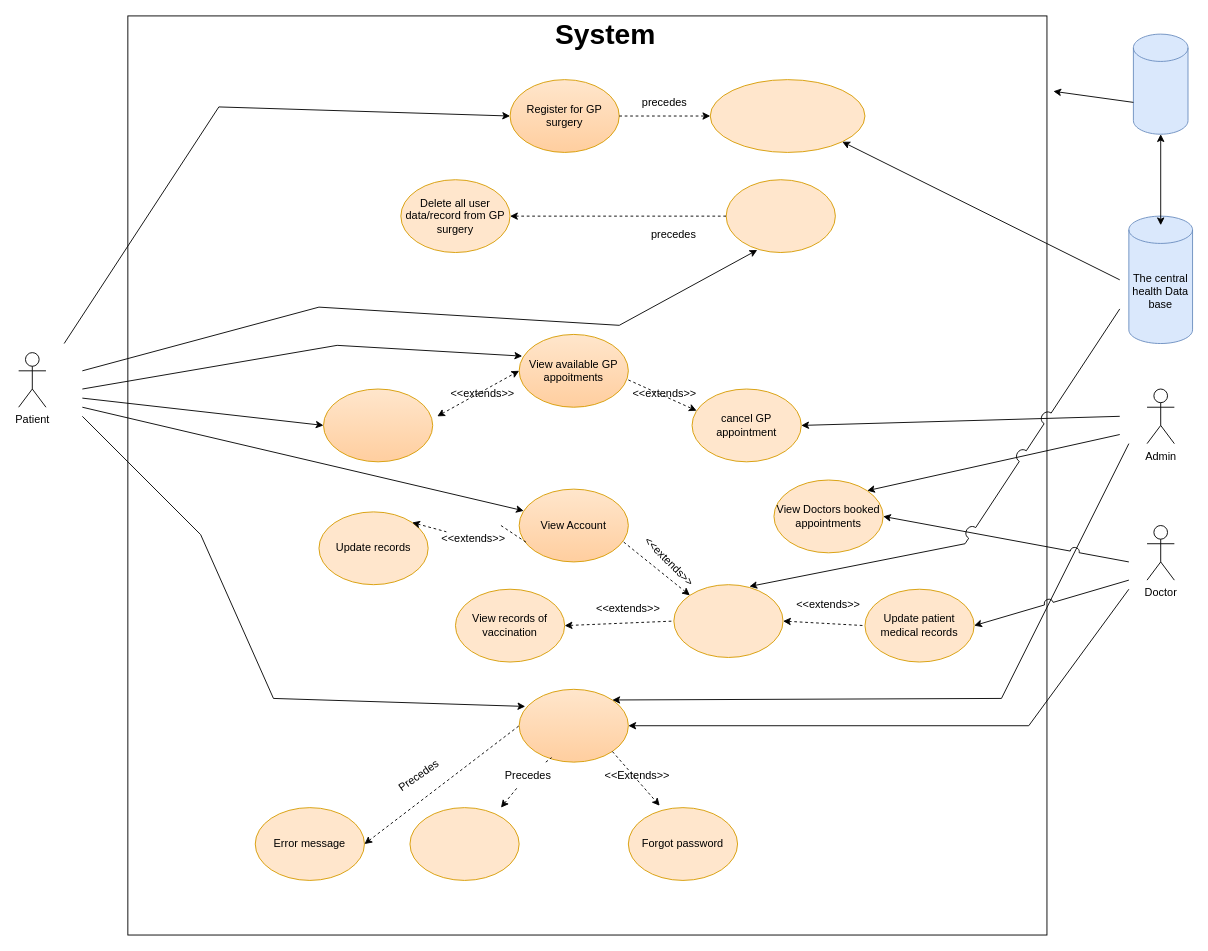
The diagram is 1208 pixels wide and 951 high, and some of its shapes have lost their labels. The box of each missing label's shape, as (x1, y1, x2, y2) in pixels:
Add person details: name, nhs number, phone number, address, mail address: (709, 79, 865, 152)
Autenticate login: (409, 807, 519, 880)
Book a GP appoitment: (323, 388, 433, 462)
De-register from a GP surgery: (725, 179, 835, 253)
Login: (518, 688, 628, 762)
Surgery Data base: (1132, 33, 1188, 134)
View medical records: (673, 584, 783, 657)
